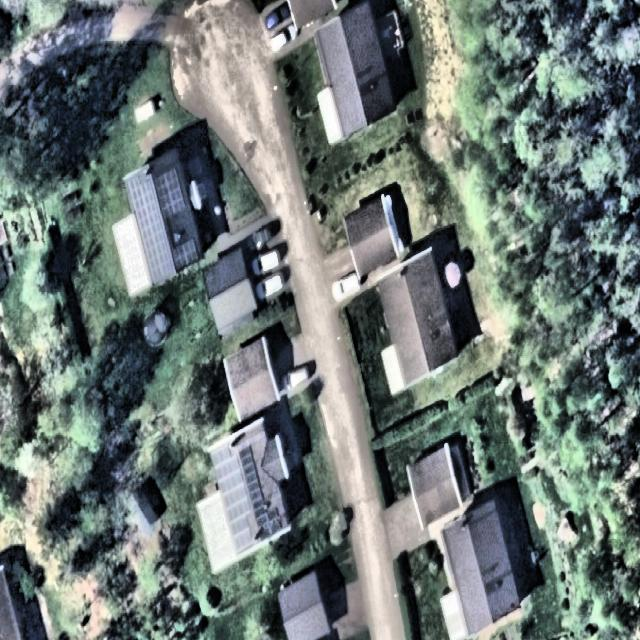roof_pv: (212, 444, 248, 519), (142, 216, 174, 288), (240, 447, 268, 508), (124, 173, 160, 220), (156, 166, 188, 216), (227, 507, 256, 553), (172, 236, 199, 273)
